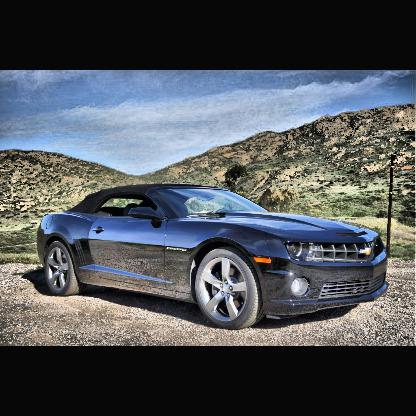Chevrolet Camaro Convertible 2012: (38, 184, 389, 330)
